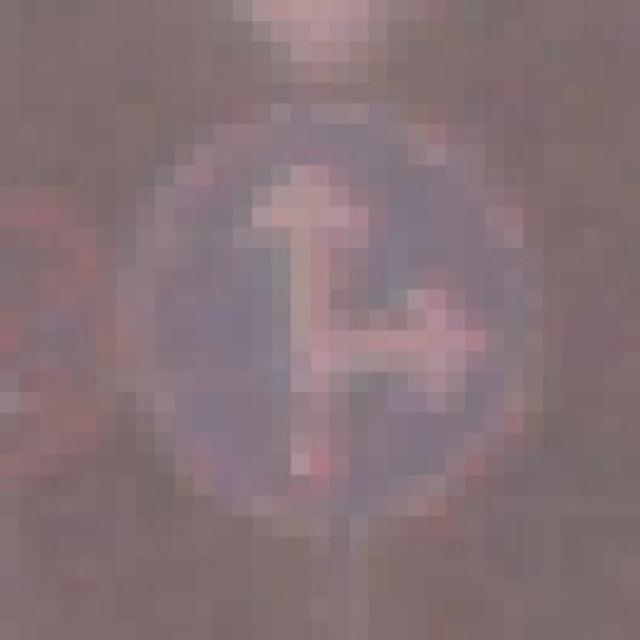Go Straight or Turn Right: (116, 82, 562, 558)
